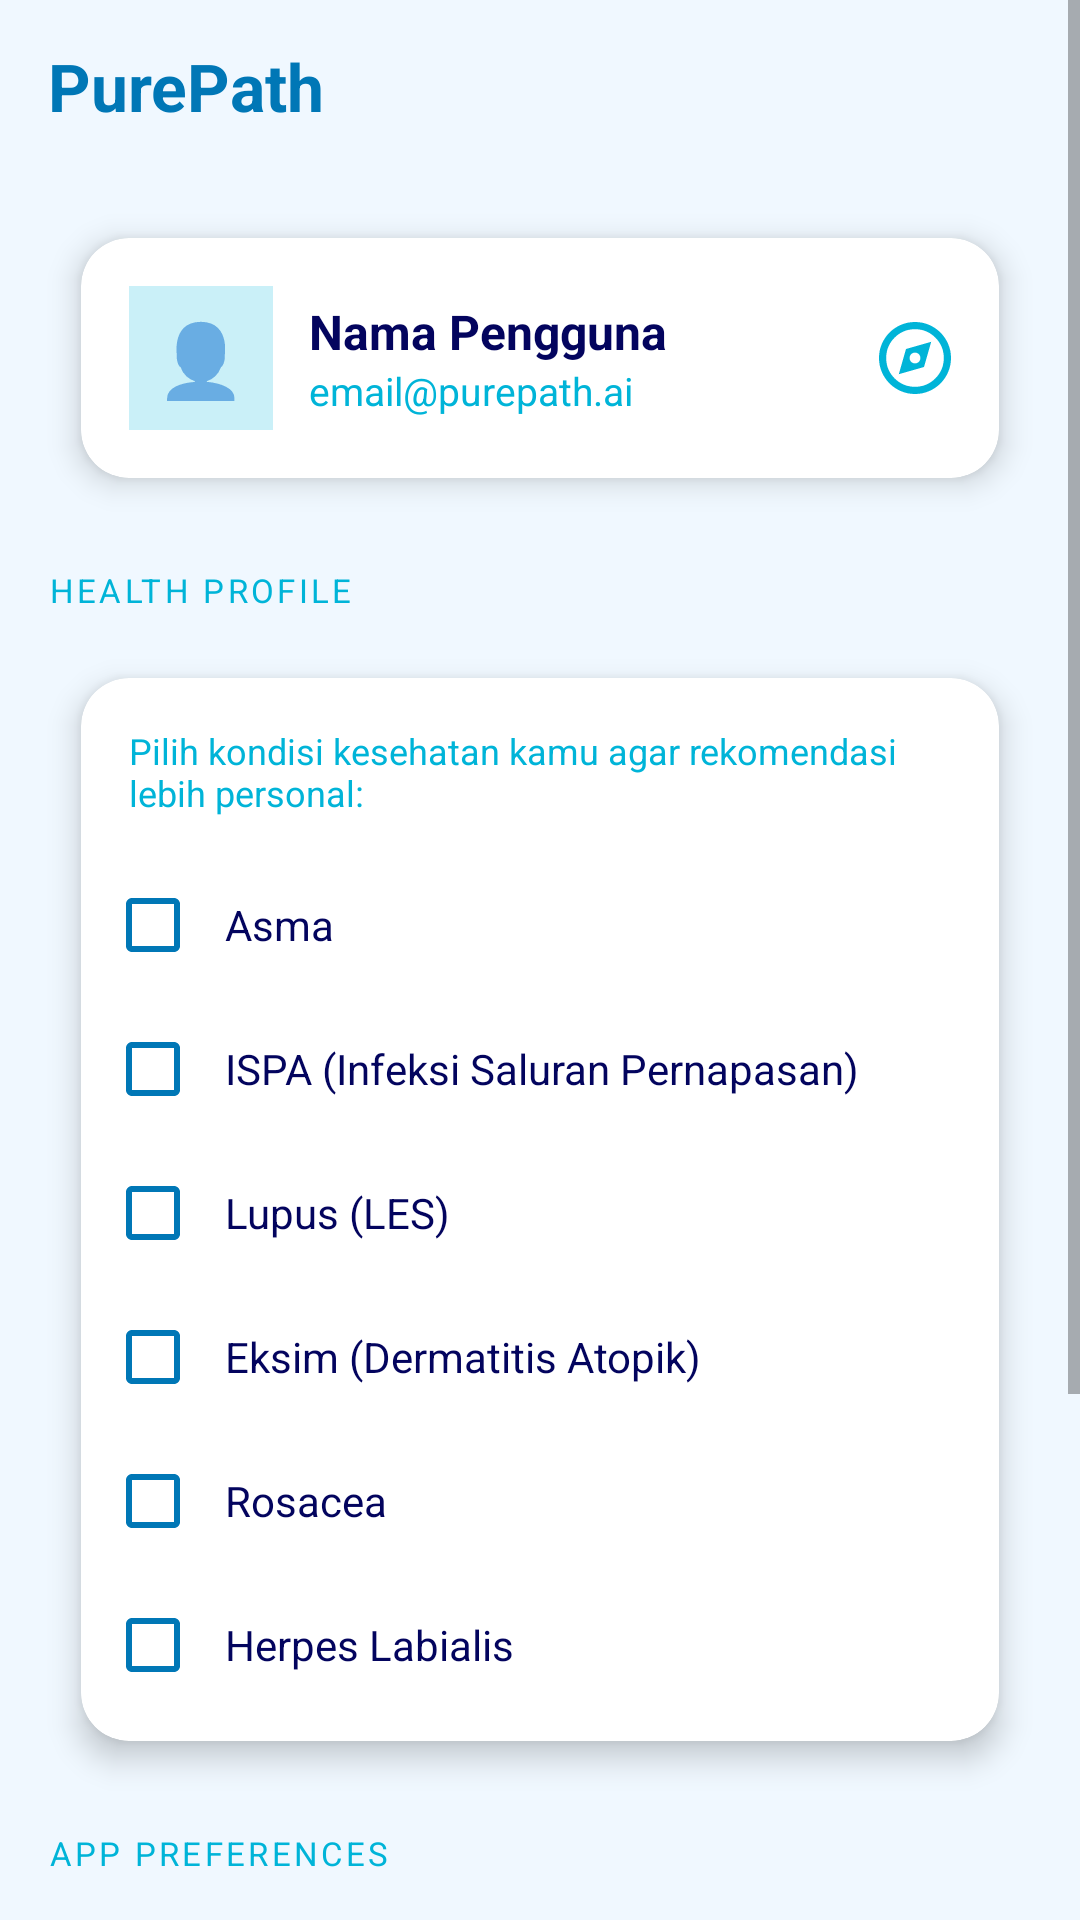

Icons on this 1080 × 1920 Android screen, each with its box as (left=x1, top=y1, right=x2, bottom=y2):
explore: (left=879, top=322, right=951, bottom=394)
